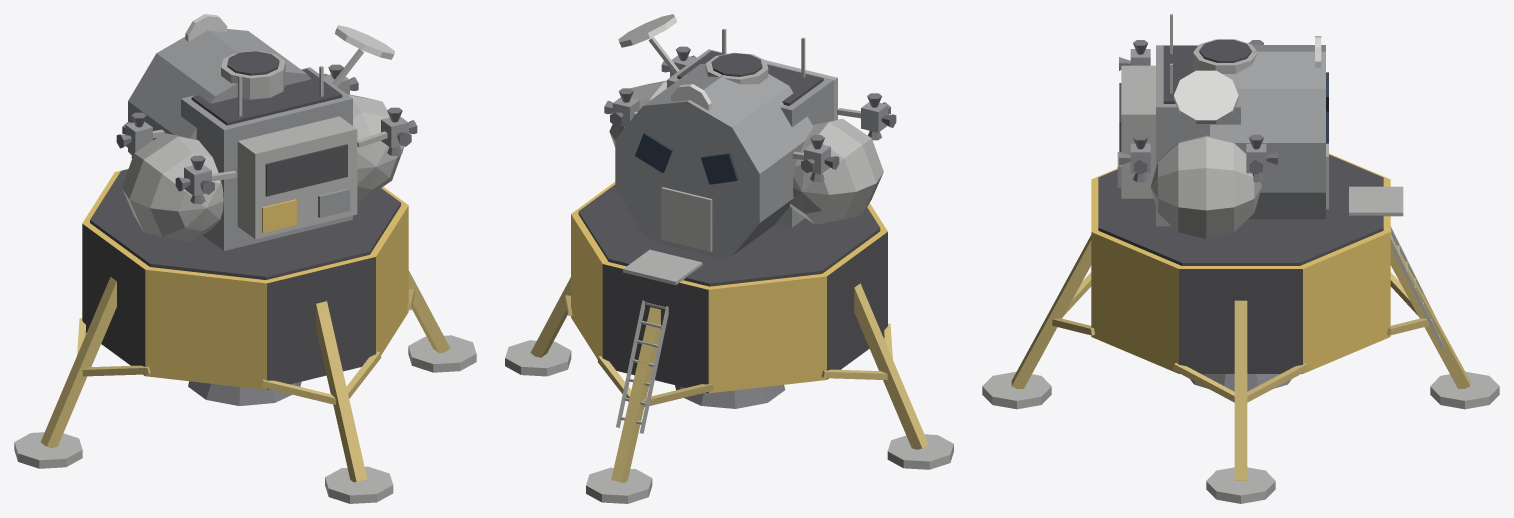
The model's file is lunar_module.glb.
3 views of the same model, side by side, from view 1: azimuth 30°, elevation 25°; view 2: azimuth 150°, elevation 25°; view 3: azimuth 270°, elevation 25° (orthographic). The views are drawn at different scales.
Parts seen in each view (by area): view 1: lunar_module; view 2: lunar_module; view 3: lunar_module.
Boxes of the visible parts, x1,y1,x2,y2 form: lunar_module: (14,14,476,503); lunar_module: (505,14,953,503); lunar_module: (982,14,1499,503).
Size of the model in its own units: 6.7 by 5.18 by 6.7.
